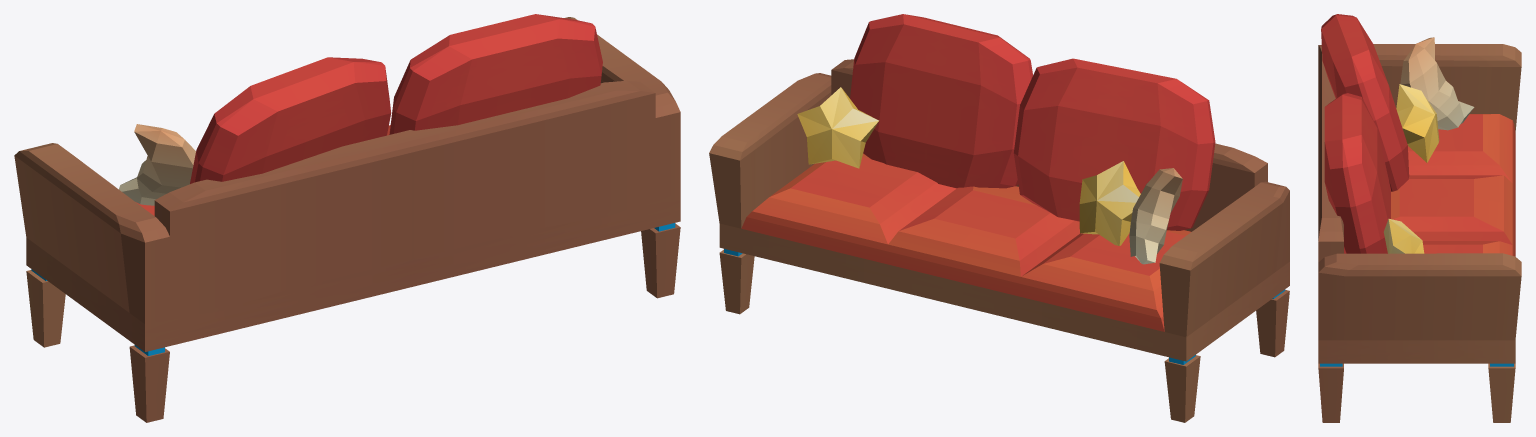
The model's file is Prop_Sofa_Modern05.fbx.
The picture shows the model from 3 angles, left to right: view 1: azimuth 30°, elevation 25°; view 2: azimuth 150°, elevation 25°; view 3: azimuth 270°, elevation 25°; orthographic projection. The views are drawn at different scales.
Parts seen in each view (by area): view 1: Sofa_OrangeStars; view 2: Sofa_OrangeStars; view 3: Sofa_OrangeStars.
Boxes of the visible parts, x1=… form: Sofa_OrangeStars: x1=14, y1=14, x2=680, y2=422; Sofa_OrangeStars: x1=709, y1=14, x2=1289, y2=422; Sofa_OrangeStars: x1=1318, y1=14, x2=1521, y2=422.
Size of the model in its own units: 143 by 72.75 by 54.84.
